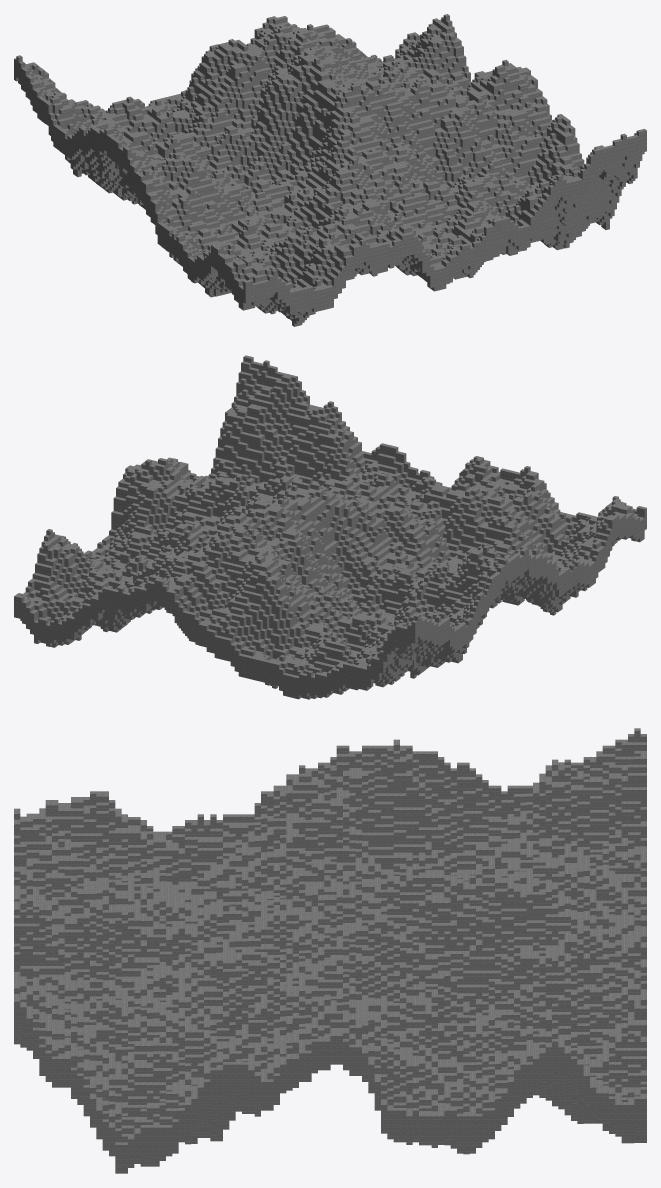
3 renders of one model, top to bottom at view 1: azimuth 30°, elevation 25°; view 2: azimuth 150°, elevation 25°; view 3: azimuth 270°, elevation 25°, orthographic. The views are drawn at different scales.
Visible parts, largest first — view 1: Node; view 2: Node; view 3: Node.
Part boxes in pixels (x1,y1,x2,y2): Node: (14,14,646,326); Node: (14,355,646,699); Node: (14,728,646,1173).
Bounding box in the file's own units: 100 × 35 × 100.
Materials: 1 (1 with a texture image).
